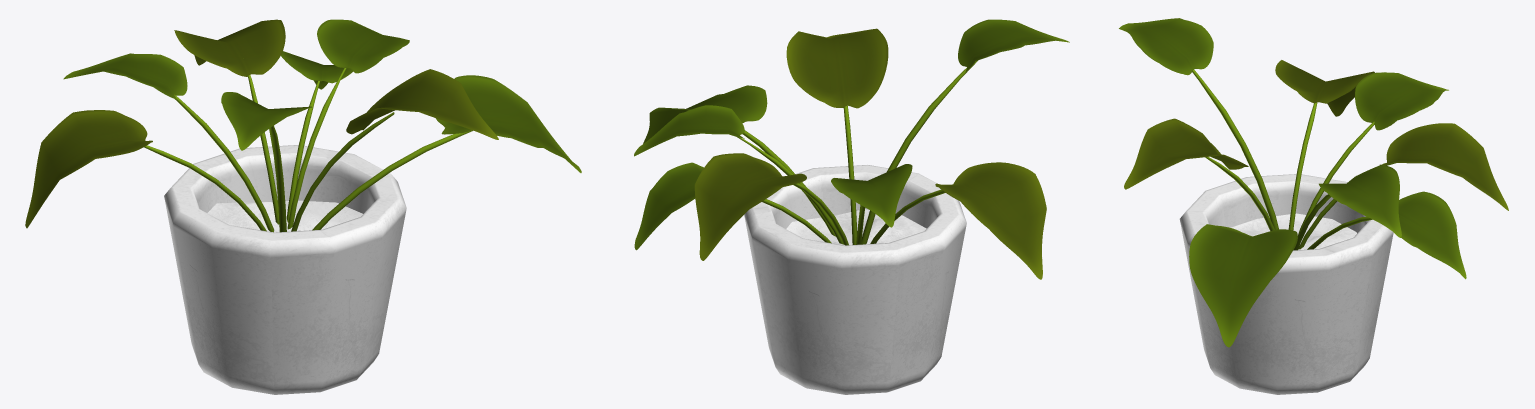
The model's file is Plant_B_Small.fbx.
3 renders of one model, left to right at view 1: azimuth 30°, elevation 25°; view 2: azimuth 150°, elevation 25°; view 3: azimuth 270°, elevation 25°, orthographic. The views are drawn at different scales.
Parts seen in each view (by area): view 1: U_Plant_B_Small; view 2: U_Plant_B_Small; view 3: U_Plant_B_Small.
Boxes of the visible parts, left/top/right/bottom form: U_Plant_B_Small: left=25, top=19, right=581, bottom=394; U_Plant_B_Small: left=634, top=19, right=1069, bottom=394; U_Plant_B_Small: left=1119, top=18, right=1508, bottom=394.
Bounding box in the file's own units: 80.73 × 49.07 × 62.89.
Materials: 3 (3 with a texture image).
